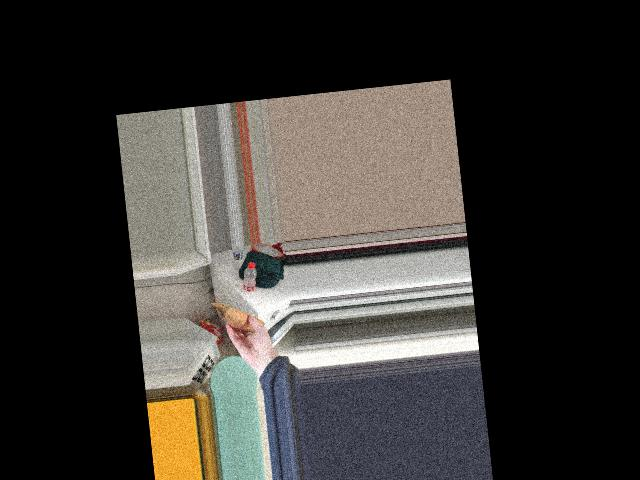sweet_potato: (225, 304, 260, 339)
